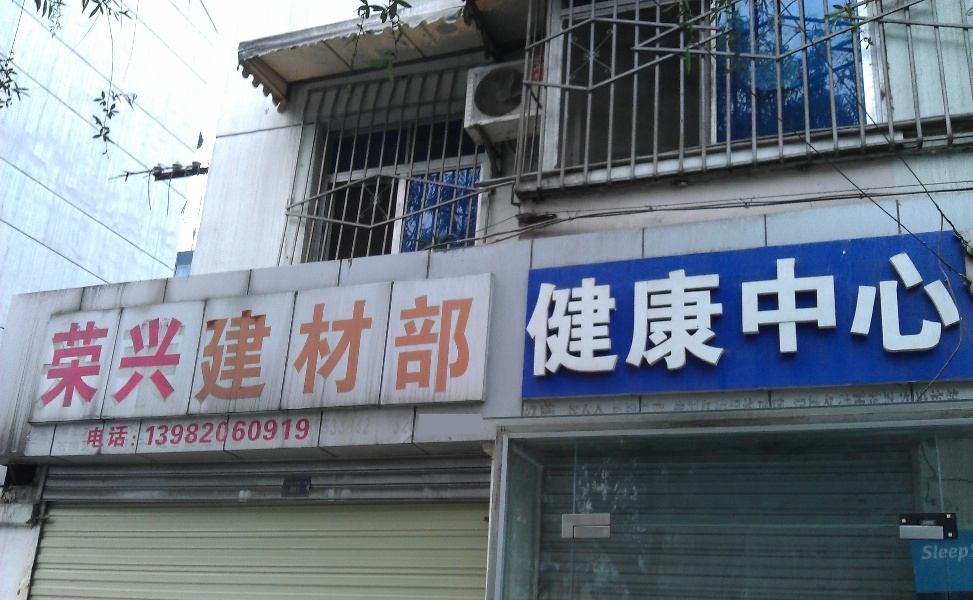text: (529, 240, 544, 379), (545, 240, 560, 379), (561, 240, 576, 379), (577, 240, 592, 379), (593, 240, 608, 379), (609, 240, 624, 379), (625, 240, 640, 379), (641, 240, 656, 379), (657, 240, 672, 379), (673, 240, 688, 379), (689, 240, 704, 379), (705, 240, 720, 379), (721, 240, 736, 379), (737, 240, 752, 379), (753, 240, 768, 379), (769, 240, 784, 379), (785, 240, 800, 379), (801, 240, 816, 379), (817, 240, 832, 379), (833, 240, 848, 379), (849, 240, 864, 379), (865, 240, 880, 379), (881, 240, 896, 379), (897, 240, 912, 379), (913, 240, 928, 379), (929, 240, 944, 379), (945, 240, 960, 379), (65, 291, 80, 415), (81, 291, 96, 415), (97, 291, 112, 415), (113, 291, 128, 415), (129, 291, 144, 415), (145, 291, 160, 415), (161, 291, 176, 415), (177, 291, 192, 415), (193, 291, 208, 415), (209, 291, 224, 415), (225, 291, 240, 415), (241, 291, 256, 415), (257, 291, 272, 415), (273, 291, 288, 415), (289, 291, 304, 415), (305, 291, 320, 415), (321, 291, 336, 415), (337, 291, 352, 415), (353, 291, 368, 415), (369, 291, 384, 415), (385, 291, 400, 415), (401, 291, 416, 415), (417, 291, 432, 415), (433, 291, 448, 415), (449, 291, 464, 415), (52, 291, 64, 415), (465, 291, 475, 415), (961, 240, 965, 379), (97, 416, 112, 449), (113, 416, 128, 449), (129, 416, 144, 449), (145, 416, 160, 449), (161, 416, 176, 449), (177, 416, 192, 449), (193, 416, 208, 449), (209, 416, 224, 449), (225, 416, 240, 449), (241, 416, 256, 449), (257, 416, 272, 449), (273, 416, 288, 449), (289, 416, 304, 449), (529, 387, 544, 420), (545, 387, 560, 420), (561, 387, 576, 420), (577, 387, 592, 420), (593, 387, 608, 420), (609, 387, 624, 420), (625, 387, 640, 420), (641, 387, 656, 420), (657, 387, 672, 420), (673, 387, 688, 420), (689, 387, 704, 420), (705, 387, 720, 420), (721, 387, 736, 420), (737, 387, 752, 420), (753, 387, 768, 420), (769, 387, 784, 420), (785, 387, 800, 420), (801, 387, 816, 420), (817, 387, 832, 420), (833, 387, 848, 420), (849, 387, 864, 420), (865, 387, 880, 420), (881, 387, 896, 420), (897, 387, 912, 420), (913, 387, 928, 420), (929, 387, 944, 420), (945, 387, 959, 420), (929, 542, 944, 564), (945, 542, 960, 564), (88, 416, 96, 449), (305, 416, 311, 449), (920, 542, 928, 564), (961, 542, 969, 564), (523, 387, 528, 420)
